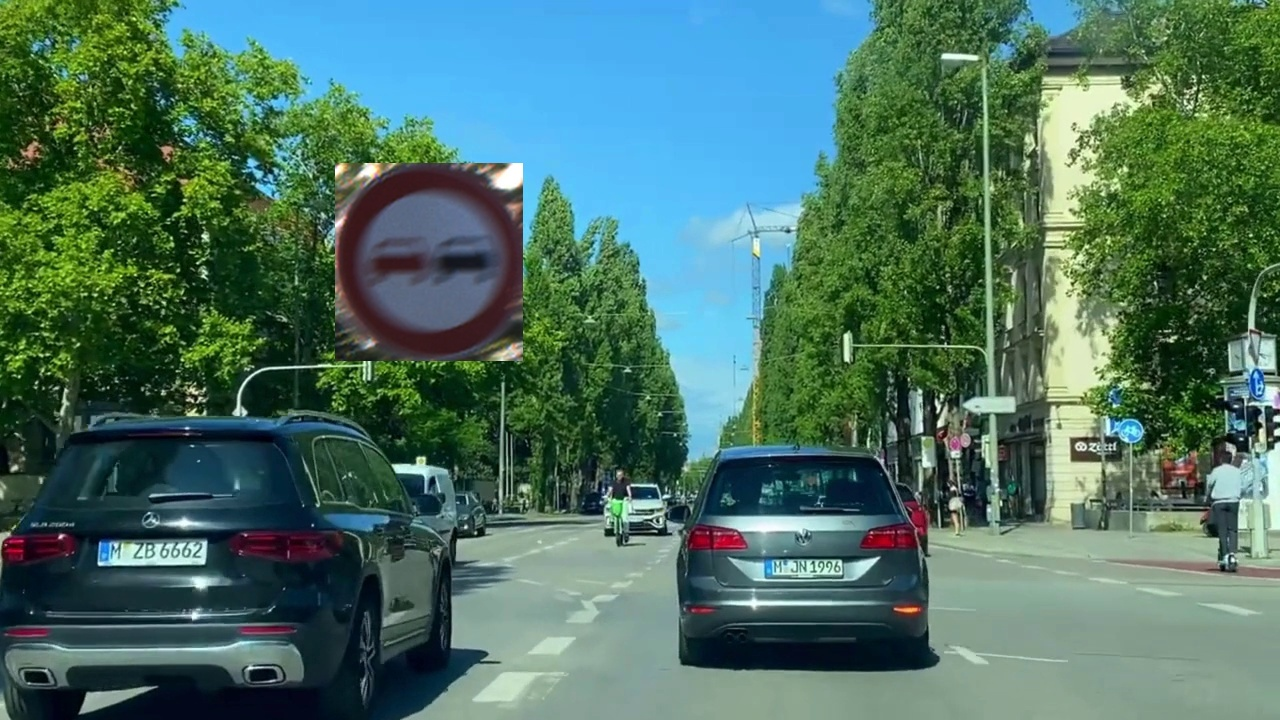No passing: (335, 163, 523, 361)
